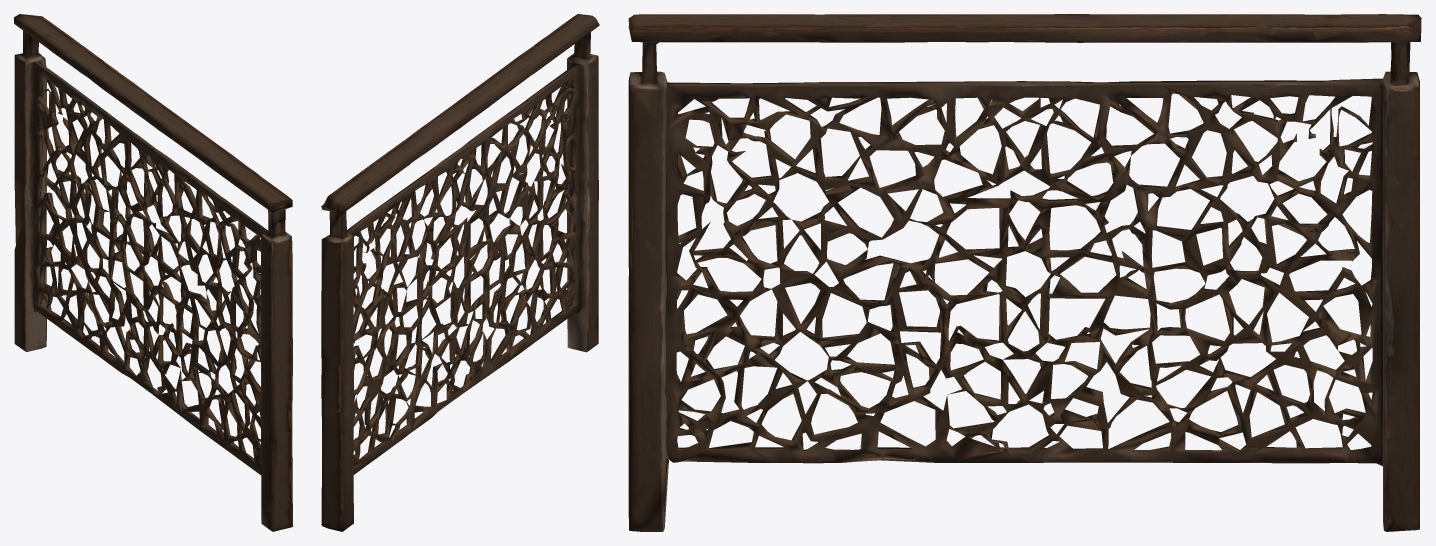
Rendered from balcrail_lod1.glb.
3 renders of one model, left to right at view 1: azimuth 30°, elevation 25°; view 2: azimuth 150°, elevation 25°; view 3: azimuth 270°, elevation 25°, orthographic. The views are drawn at different scales.
Parts seen in each view (by area): view 1: tripo_node_59b3634f-7aed-4abb-b65b-6a26f1630ae5; view 2: tripo_node_59b3634f-7aed-4abb-b65b-6a26f1630ae5; view 3: tripo_node_59b3634f-7aed-4abb-b65b-6a26f1630ae5.
Part boxes in pixels (x1,y1,x2,y2): tripo_node_59b3634f-7aed-4abb-b65b-6a26f1630ae5: (14, 14, 292, 531); tripo_node_59b3634f-7aed-4abb-b65b-6a26f1630ae5: (321, 14, 599, 531); tripo_node_59b3634f-7aed-4abb-b65b-6a26f1630ae5: (628, 14, 1421, 531).
Size of the model in its own units: 0.0721 by 0.9997 by 1.43.
Materials: 1 (1 with a texture image).
